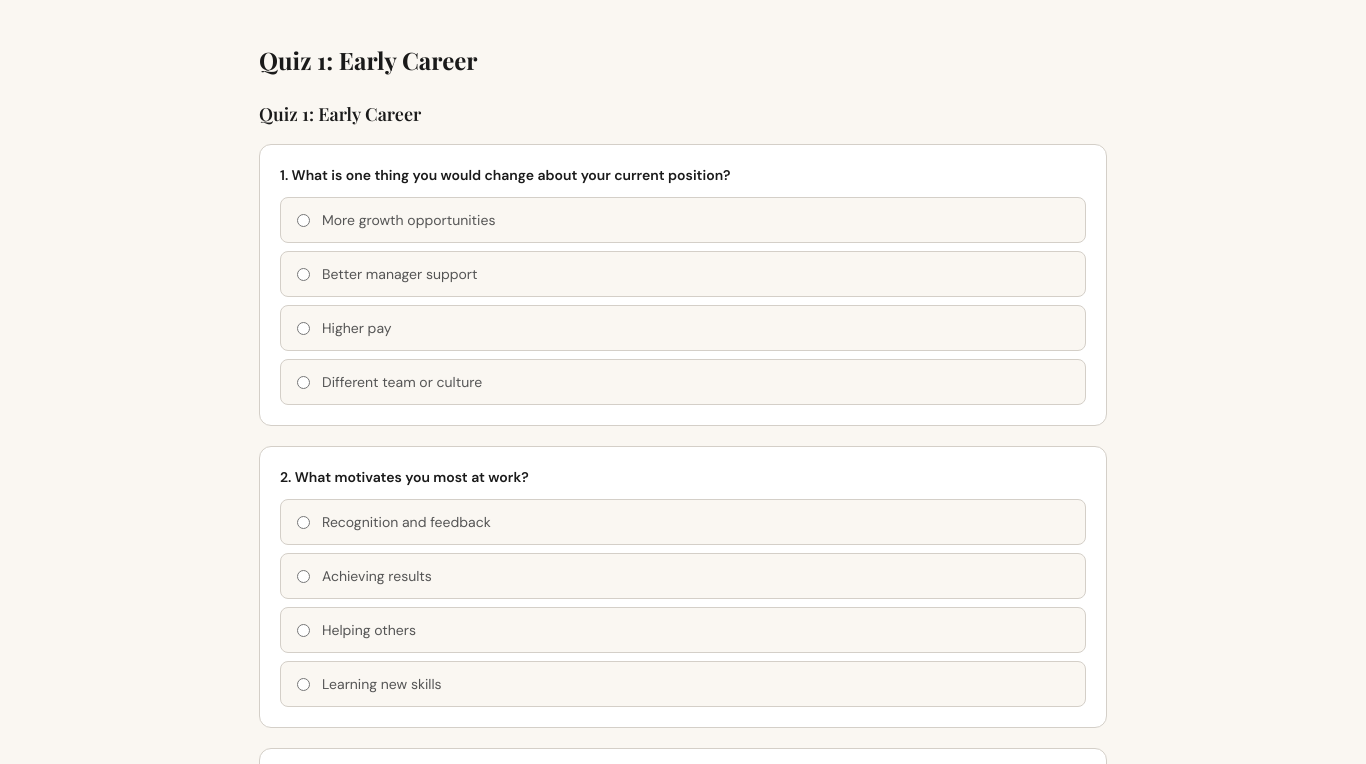
Test: CareerQuizzes - guest › locks out and stores the save only after a successful insight
Click the radio button labelled "More growth opportunities".
click(304, 220)  # box x1=297 y1=214 x2=310 y2=226
(page scrolled)
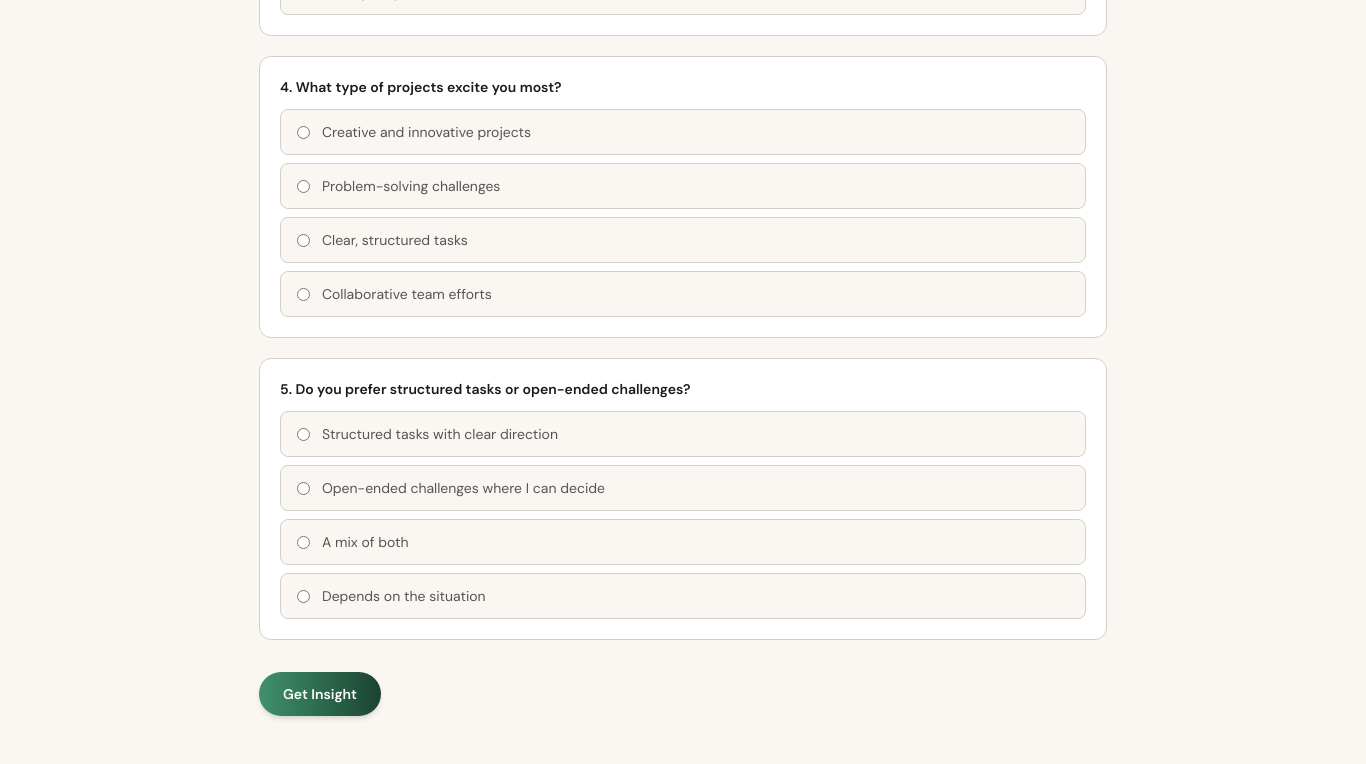
Click the button "Get Insight".
click(320, 694)  # box x1=259 y1=672 x2=381 y2=716
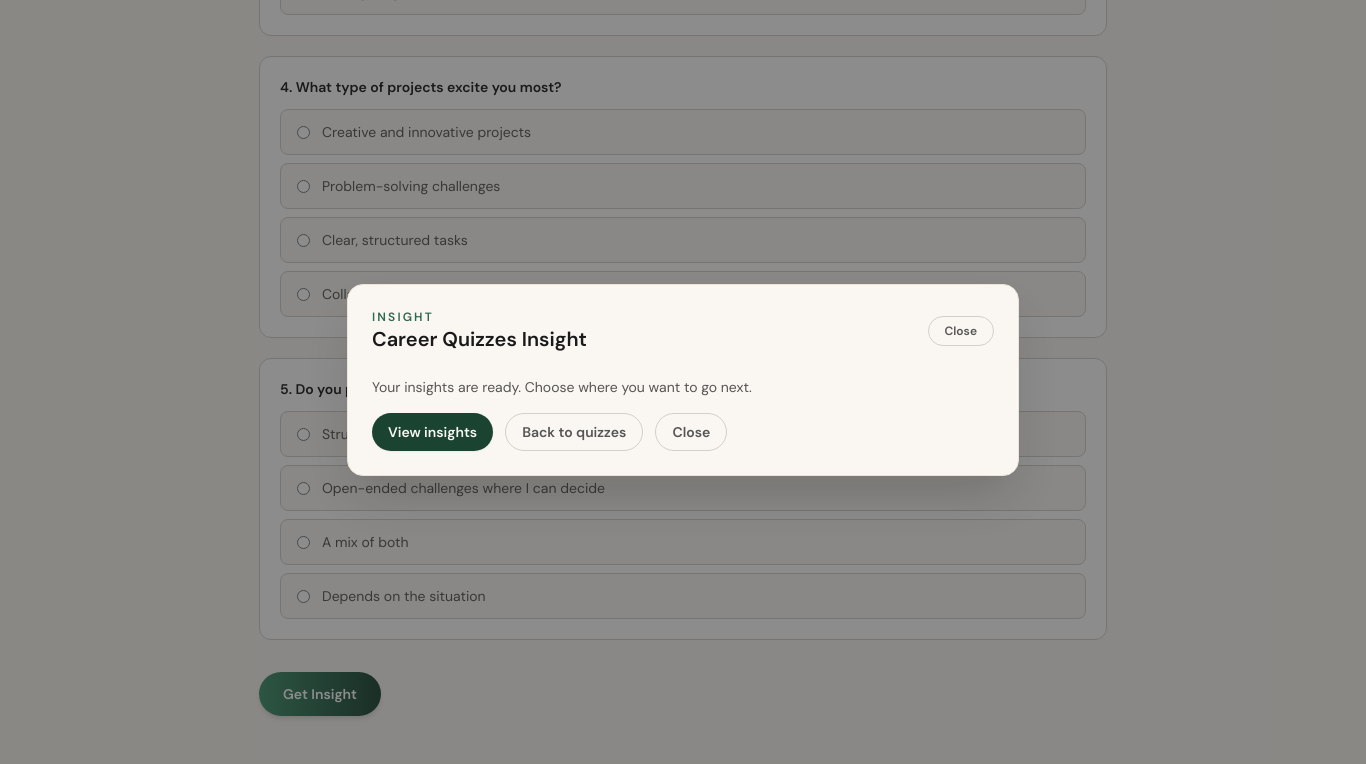
Check: the text "Your insights are ready. Choose where you want to go next." is shown, box x1=372 y1=378 x2=752 y2=396
